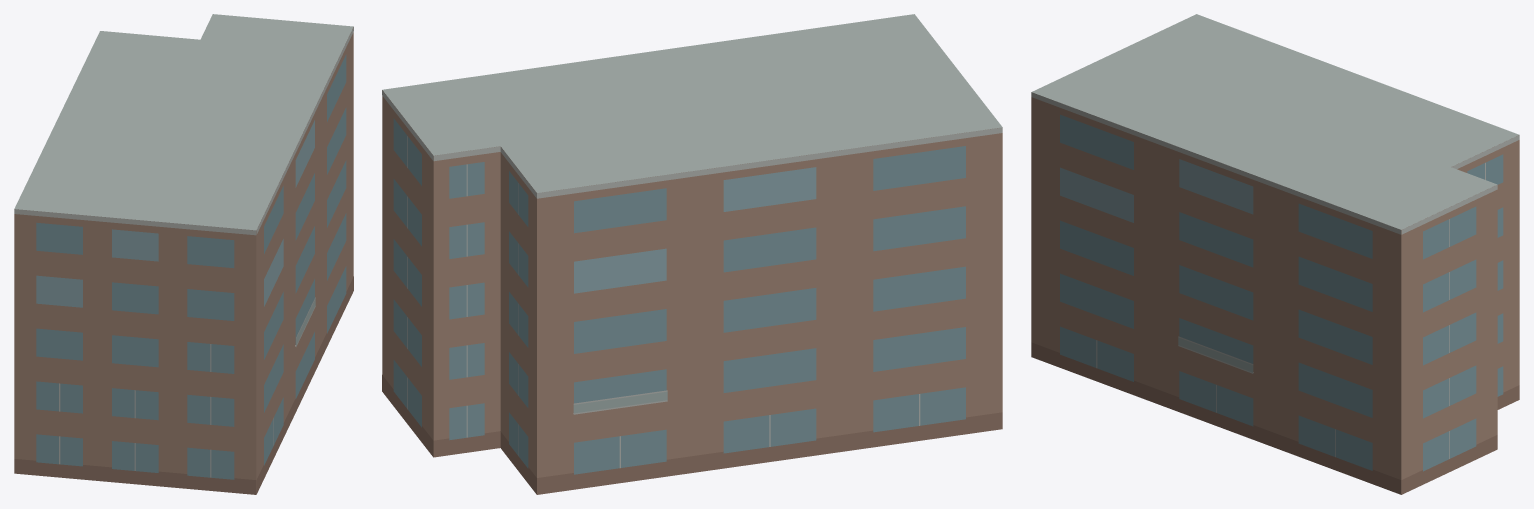
Rendered from survey-upis-32982393.glb.
3 renders of one model, left to right at view 1: azimuth 30°, elevation 25°; view 2: azimuth 150°, elevation 25°; view 3: azimuth 270°, elevation 25°, orthographic. The views are drawn at different scales.
Parts seen in each view (by area): view 1: survey-upis-32982393.tmp; view 2: survey-upis-32982393.tmp; view 3: survey-upis-32982393.tmp.
Part boxes in pixels (x1,y1,x2,y2): survey-upis-32982393.tmp: [14, 14, 353, 494]; survey-upis-32982393.tmp: [382, 14, 1002, 494]; survey-upis-32982393.tmp: [1031, 14, 1519, 494].
Bounding box in the file's own units: 22.9 × 13.1 × 21.88.
